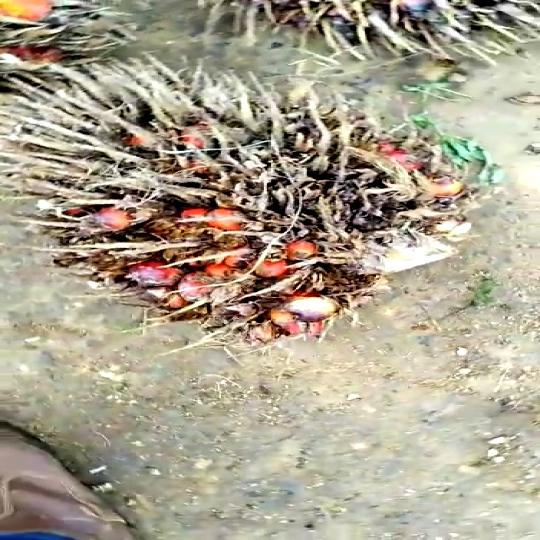terlalu masak: (0, 43, 533, 363)
